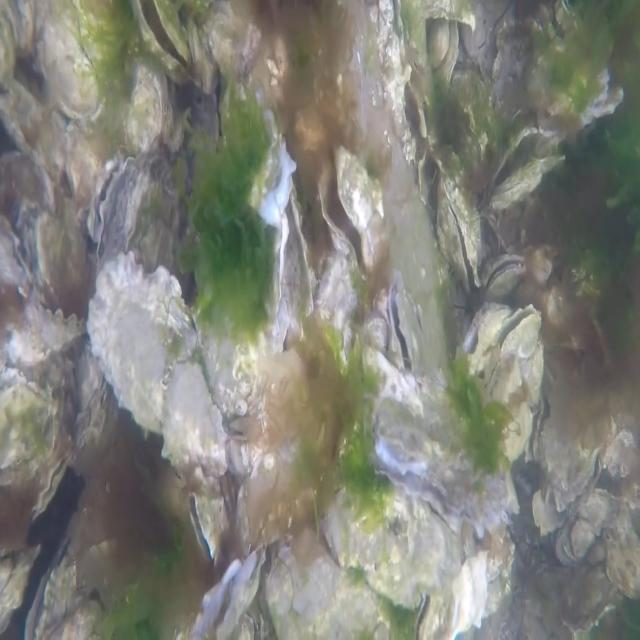Oyster-Closed: (41, 0, 127, 125), (490, 153, 565, 212), (30, 448, 72, 522), (34, 297, 87, 349)
Oyster-Indeterminate: (87, 254, 227, 466), (321, 485, 453, 610), (0, 370, 66, 489), (0, 79, 72, 173), (34, 207, 90, 299), (125, 68, 168, 155), (0, 0, 39, 94)
Oyster-Open: (372, 386, 508, 540), (206, 1, 296, 231), (316, 145, 386, 278), (25, 530, 106, 640), (476, 304, 542, 406), (435, 182, 484, 294), (278, 184, 314, 323), (128, 0, 194, 72), (456, 302, 513, 379), (89, 151, 134, 245), (388, 271, 422, 377), (0, 208, 40, 290), (187, 491, 225, 562), (483, 253, 526, 296)
